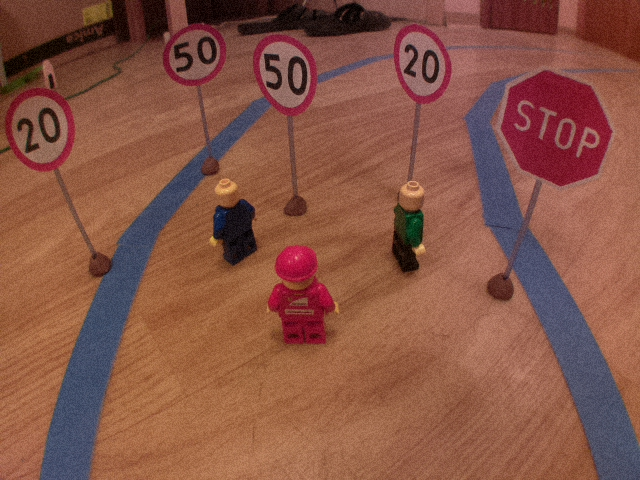LEGO_person: (257, 240, 345, 353), (205, 176, 260, 270), (386, 178, 433, 279)
ogr_20: (1, 85, 82, 177), (388, 20, 458, 113)
ogr_50: (248, 31, 323, 125), (158, 22, 232, 87)
stop: (493, 62, 622, 191)
